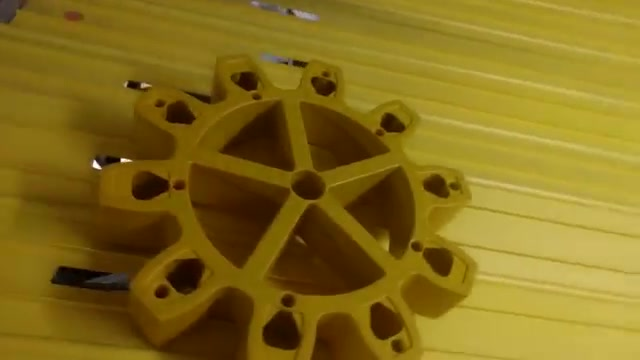gear: (90, 33, 489, 360)
